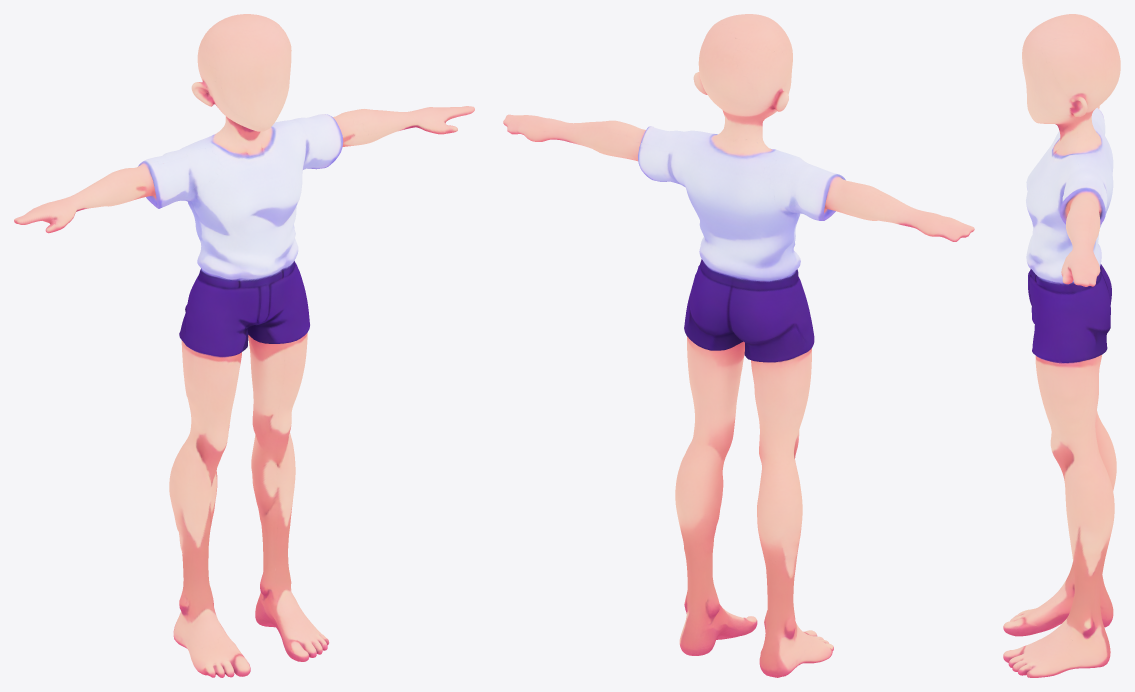
Rendered from base_basic_shaded.fbx.
3 renders of one model, left to right at view 1: azimuth 30°, elevation 25°; view 2: azimuth 150°, elevation 25°; view 3: azimuth 270°, elevation 25°, orthographic.
Parts seen in each view (by area): view 1: model; view 2: model; view 3: model.
Part boxes in pixels (x1,y1,x2,y2): model: [14, 14, 474, 677]; model: [503, 14, 974, 677]; model: [1003, 14, 1120, 677].
Bounding box in the file's own units: 145 × 190 × 32.16.
